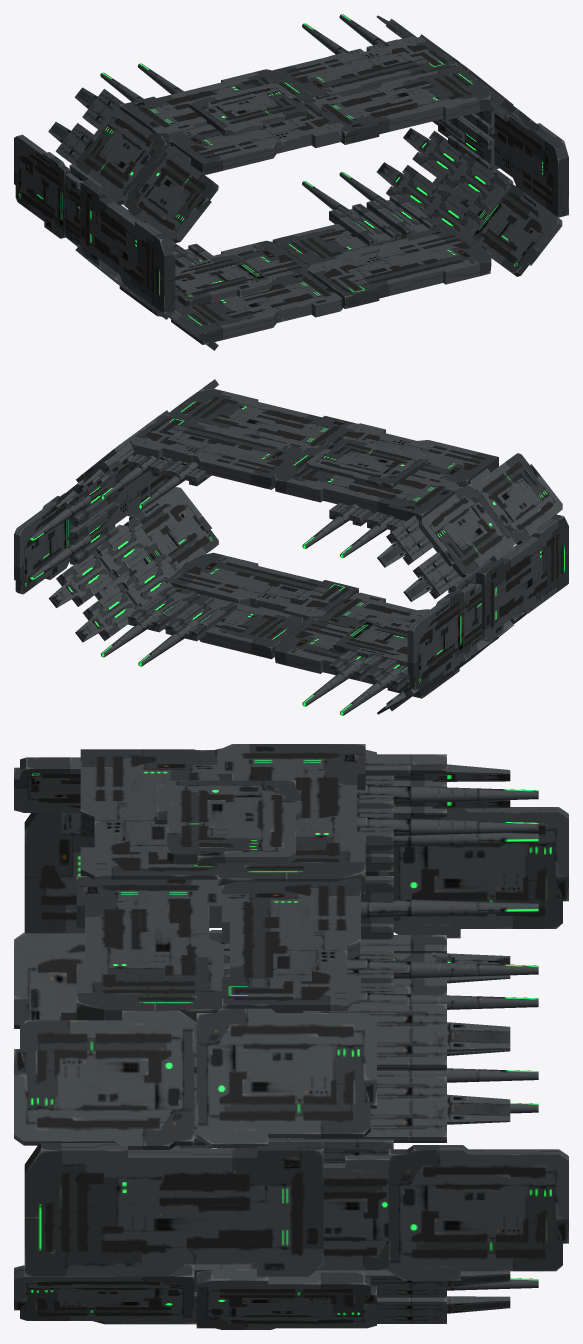
File: WarpGate25_sm.gltf
3 views of the same model, one above another, from view 1: azimuth 30°, elevation 25°; view 2: azimuth 150°, elevation 25°; view 3: azimuth 270°, elevation 25° (orthographic). The views are drawn at different scales.
Visible parts, largest first — view 1: WarpGate25; view 2: WarpGate25; view 3: WarpGate25.
Boxes of the visible parts, x1=… form: WarpGate25: x1=14, y1=14, x2=568, y2=350; WarpGate25: x1=14, y1=379, x2=568, y2=715; WarpGate25: x1=14, y1=744, x2=568, y2=1329.
Size of the model in its own units: 131 by 58.45 by 87.12.
1 material, 1 textured.
